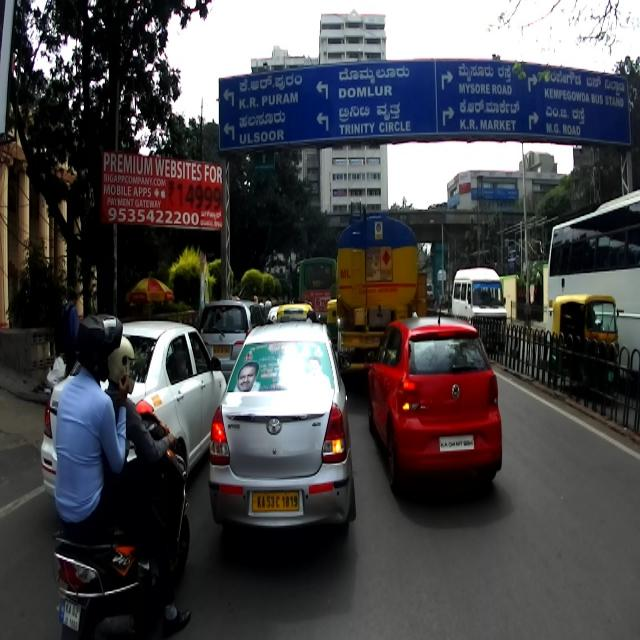Car_Maruti-Suzuki: (40, 316, 228, 500)
Car_Toyota: (208, 320, 356, 542), (198, 300, 256, 384)
Car_Volkswagen: (366, 297, 502, 491)
autorickshaw: (551, 294, 617, 371)
scooter: (56, 398, 190, 639)
